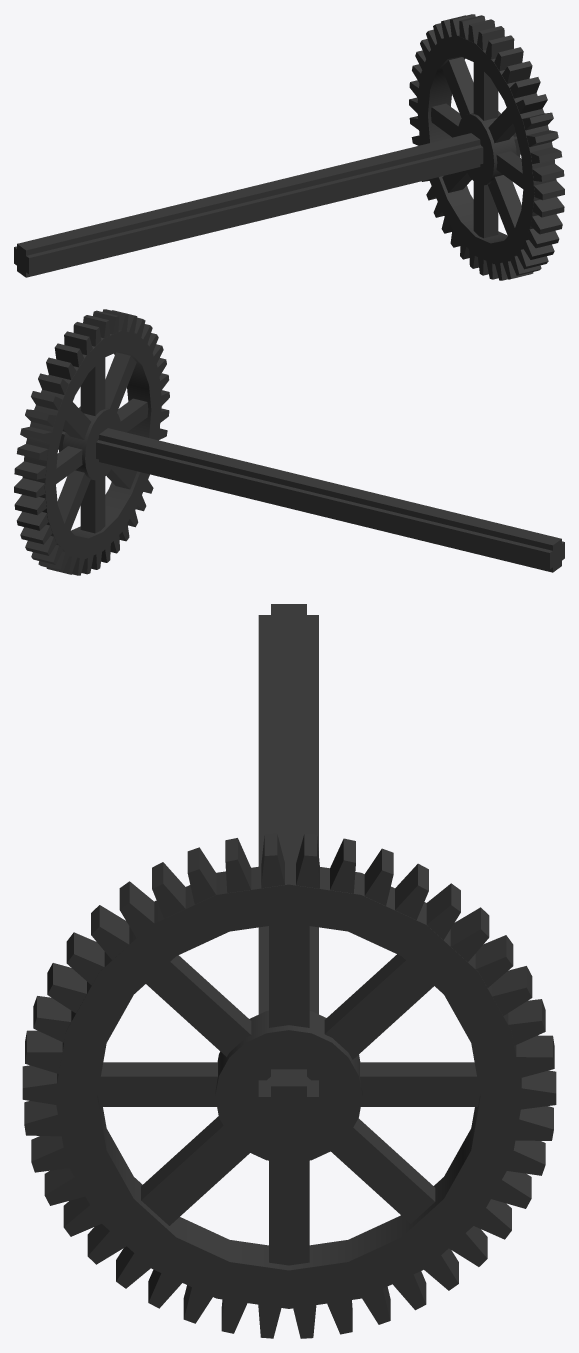
File: valkyrium_engine_power_cog_geo.obj
3 views of the same model, one above another, from view 1: azimuth 30°, elevation 25°; view 2: azimuth 150°, elevation 25°; view 3: azimuth 270°, elevation 25° (orthographic). The views are drawn at different scales.
Parts seen in each view (by area): view 1: valkyrium_engine_power_cog_geo; view 2: valkyrium_engine_power_cog_geo; view 3: valkyrium_engine_power_cog_geo.
Part boxes in pixels (x1=…): valkyrium_engine_power_cog_geo: x1=14, y1=14, x2=564, y2=280; valkyrium_engine_power_cog_geo: x1=14, y1=309, x2=564, y2=575; valkyrium_engine_power_cog_geo: x1=22, y1=604, x2=556, y2=1338.
Size of the model in its own units: 0.5124 by 0.2396 by 0.2399.
